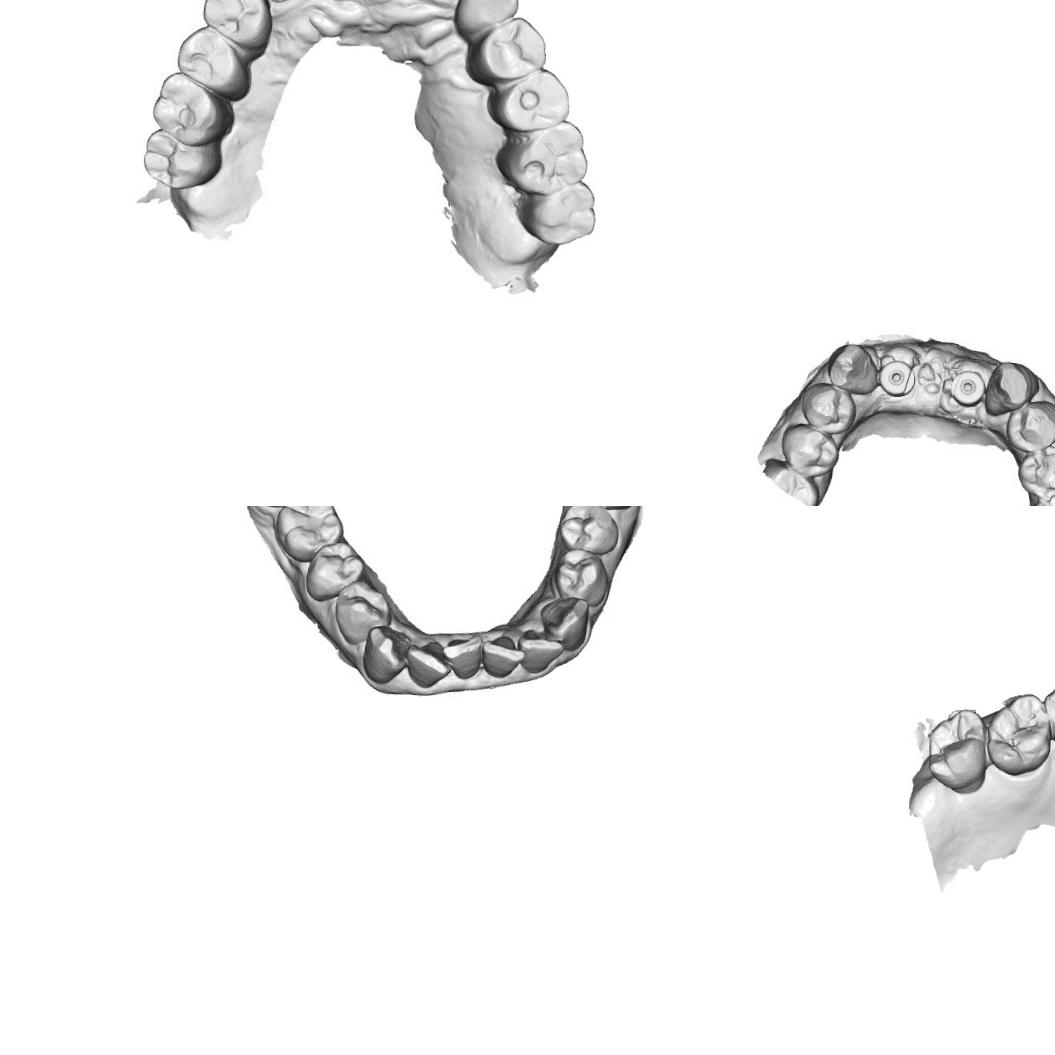canine: (982, 356, 1038, 416), (536, 593, 591, 654), (824, 335, 879, 395), (360, 623, 410, 686), (448, 0, 520, 35)
implant: (876, 358, 919, 399), (943, 368, 984, 408)
incisor: (440, 630, 489, 686), (403, 637, 453, 690), (515, 628, 560, 676), (480, 632, 525, 678)
molar: (494, 116, 586, 198), (981, 688, 1055, 780), (148, 68, 232, 148), (515, 174, 599, 248), (921, 706, 991, 793), (138, 125, 222, 193)
premolar: (488, 62, 574, 134), (471, 12, 552, 88), (171, 24, 251, 98), (331, 575, 392, 648), (270, 506, 348, 563), (197, 0, 275, 53), (776, 420, 841, 481), (795, 378, 857, 439), (302, 541, 362, 603), (552, 547, 611, 610), (556, 506, 622, 557), (999, 396, 1055, 454), (1013, 442, 1055, 505), (1038, 683, 1055, 751)
